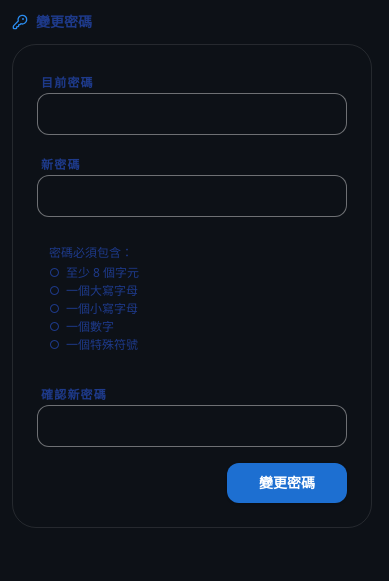
ChangePassword（自助修改密碼） › 新密碼與確認不一致 → 顯示錯誤、不呼叫 API
Type "oldpass" into the password field labelled "目前密碼". click: (192, 114)
box: [37,93,347,135]
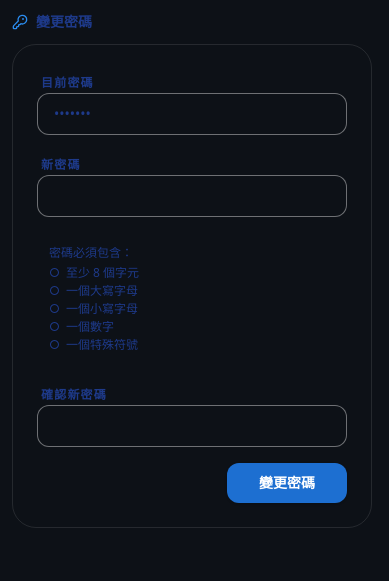
Type "NewPass1!" into the password field labelled "新密碼". click: (192, 196)
box: [37,175,347,217]
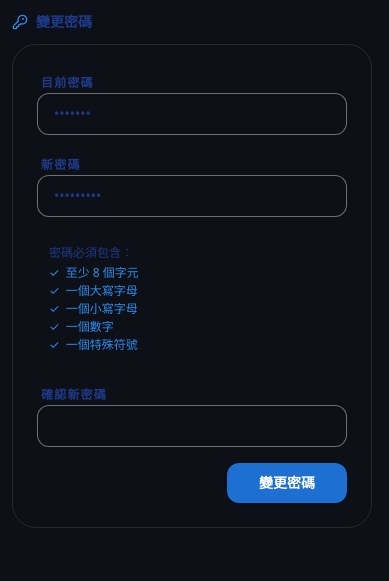
Type "Different1!" into the password field labelled "確認新密碼". click: (192, 426)
box: [37,405,347,447]
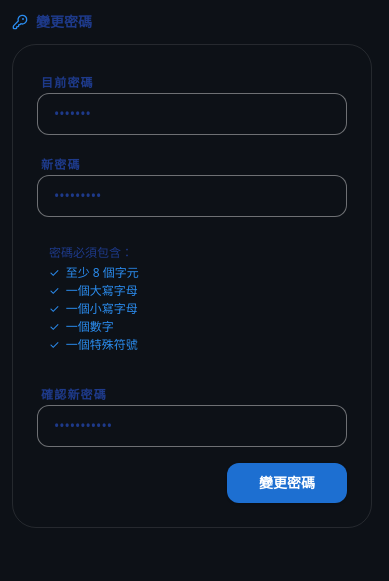
Click the button "變更密碼". click: click(287, 483)
box: [227,463,347,503]
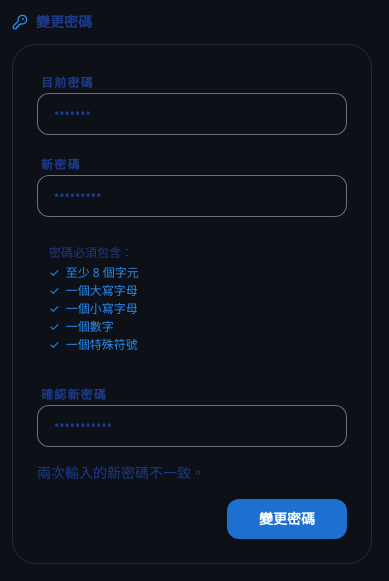
Expected: the text "兩次輸入的新密碼不一致。" is shown, [37,463,205,482]
